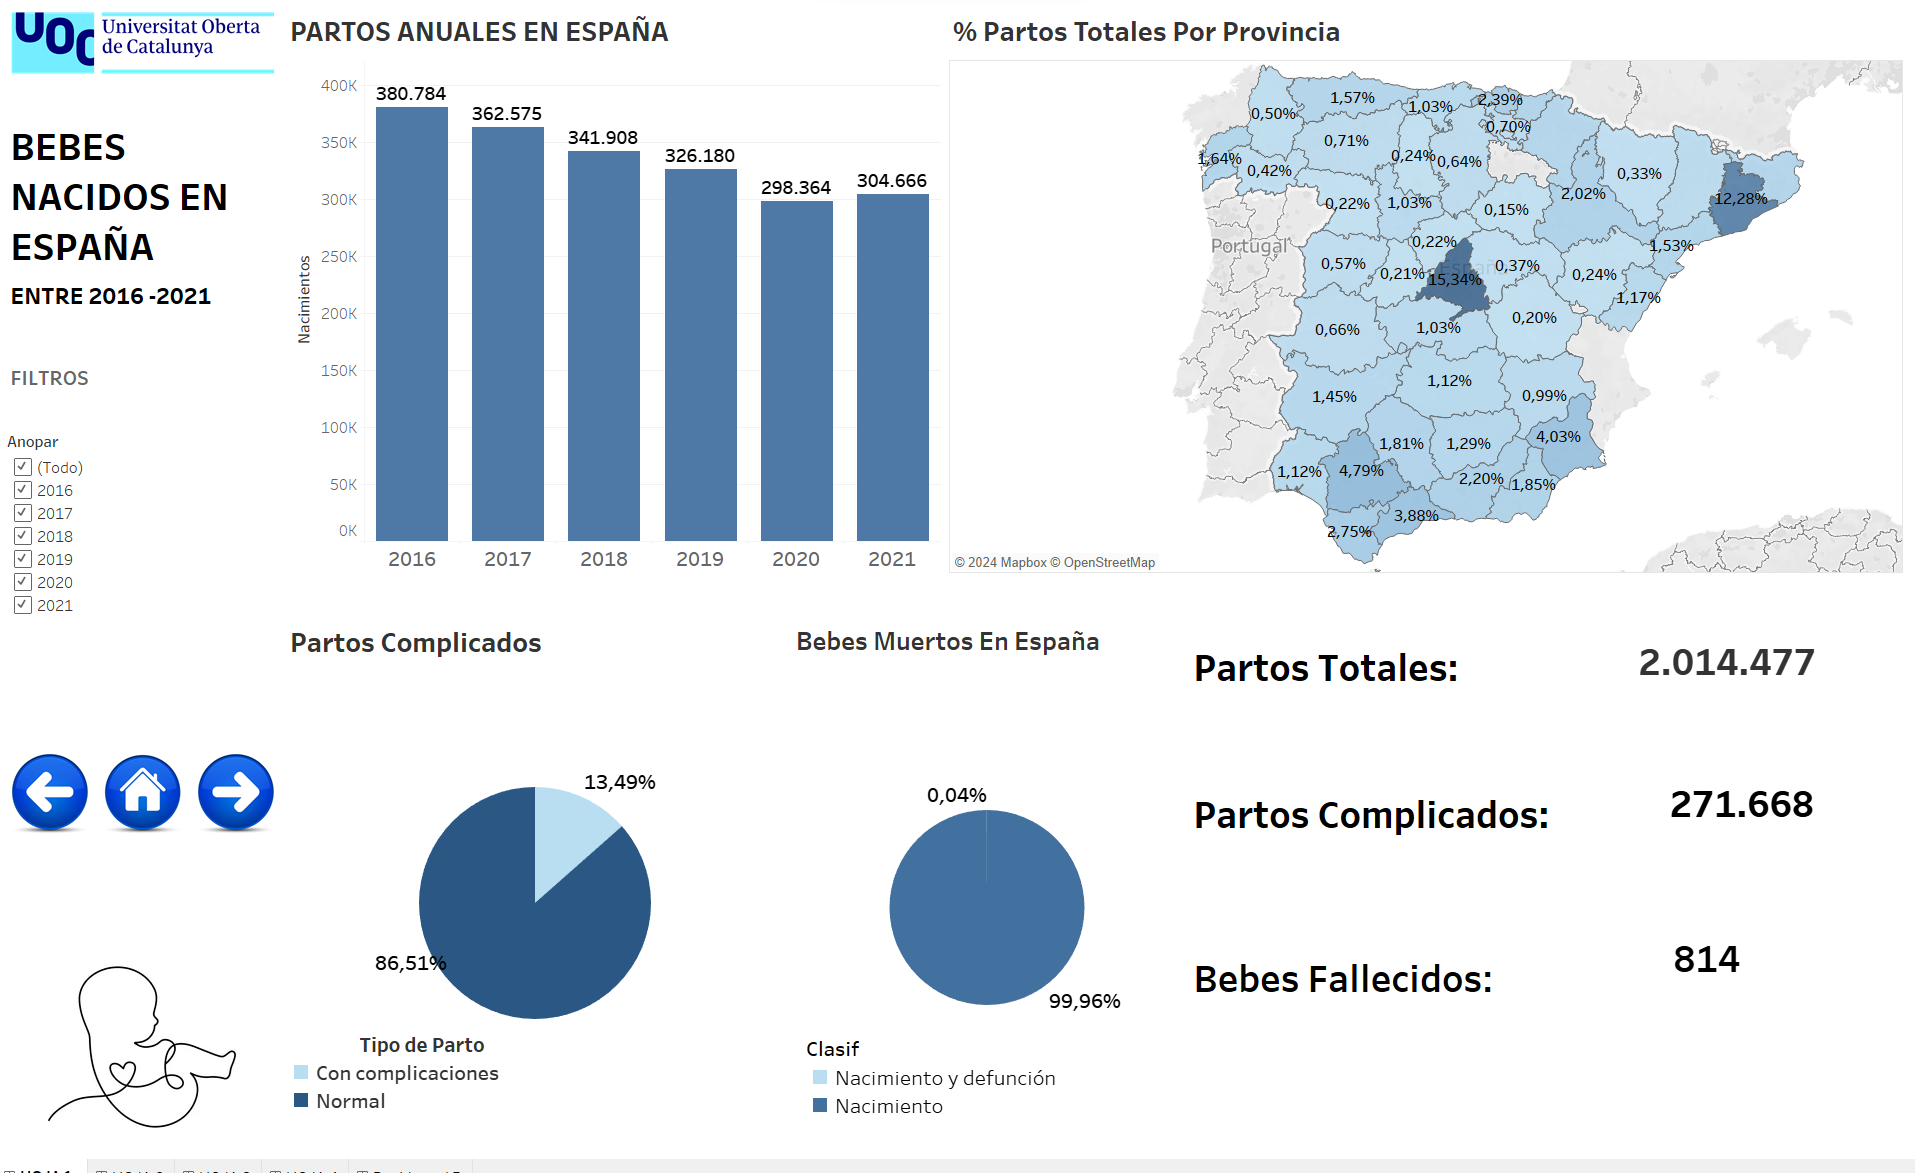

The page's visual inventory and layout, read from the dashboard file:
{"tool":"tableau","page":{"name":"HOJA 1","canvas":[1000,1000],"units":"permille","ordinal":0},"visuals":[{"type":"image","param":"C:/Users/miguel.agua/Documents/Personal/Semestre3/Visualizacion/PRA2/Imagenes/uo","box":[5.2,8.2,145.1,95.6]},{"type":"worksheet","title":"Partos por años","mark":"Bar","rows":["NORMA"],"cols":["ANOPAR"],"box":[150.3,8.2,344.7,491.7]},{"type":"worksheet","title":"Partos totales","mark":"Automatic","box":[495,8.2,499.8,491.7]},{"type":"text","box":[5.2,103.8,145.1,162.7]},{"type":"text","box":[5.2,266.6,145.1,42.2]},{"type":"blank","box":[5.2,308.8,145.1,45.3]},{"type":"text","box":[5.2,354.1,145.1,37.1]},{"type":"blank","box":[5.2,391.2,145.1,33]},{"type":"filter","title":"Partos con complicaciones %","param":"[federated.0aty76y0109al219r4ch6103iras].[none:ANOPAR:nk]","box":[5.2,424.2,145.1,242]},{"type":"blank","box":[150.3,499.9,844.5,32.2]},{"type":"worksheet","title":"Partos con complicaciones %","mark":"Pie","box":[150.3,532.1,263,459.7]},{"type":"worksheet","title":"bebes muertos","mark":"Pie","box":[413.3,532.1,206.6,459.7]},{"type":"text","box":[619.9,532.1,223.6,87.8]},{"type":"worksheet","title":"Conteo partos","mark":"Automatic","box":[843.5,532.1,151.3,87.8]},{"type":"blank","box":[619.9,619.9,374.9,34]},{"type":"text","box":[619.9,653.9,243.1,95.8]},{"type":"worksheet","title":"Hoja 19","mark":"Automatic","box":[863,653.9,131.8,95.8]},{"type":"dashboard-object","box":[5.2,666.3,48.9,77.2]},{"type":"dashboard-object","box":[54.1,666.3,48.2,77.2]},{"type":"dashboard-object","box":[102.4,666.3,48.2,77.2]},{"type":"image","param":"C:/Users/MIGUEL~1.AGU/AppData/Local/Temp/TableauTemp/0sq70k71esgcpo11s92yl0eh5kt","box":[5.2,743.4,145.1,248.3]},{"type":"blank","box":[619.9,749.7,374.9,37.1]},{"type":"text","box":[619.9,786.7,246.4,111.2]},{"type":"worksheet","title":"Hoja 20","mark":"Automatic","box":[866.3,786.7,128.5,111.2]},{"type":"legend","title":"Partos con complicaciones %","param":"[federated.0aty76y0109al219r4ch6103iras].[none:NORMA:nk]","box":[152.1,888.8,140.6,100.9]},{"type":"blank","box":[619.9,897.9,284.8,93.8]},{"type":"blank","box":[904.7,897.9,90.1,93.8]}]}

Visuals, with their boxes on the dashboard's canvas, which has no fixed pixel size, in thousandths of its width and height (x1, y1, x2, y2). These are canvas units, not pixel positions in the 1915x1173 screenshot, which may show the page scaled, cropped or inside an application window:
image: bbox(5, 8, 150, 104)
"Partos por años" worksheet (Bar marks): bbox(150, 8, 495, 500)
"Partos totales" worksheet: bbox(495, 8, 995, 500)
text: bbox(5, 104, 150, 266)
text: bbox(5, 267, 150, 309)
blank: bbox(5, 309, 150, 354)
text: bbox(5, 354, 150, 391)
blank: bbox(5, 391, 150, 424)
"Partos con complicaciones %" filter: bbox(5, 424, 150, 666)
blank: bbox(150, 500, 995, 532)
"Partos con complicaciones %" worksheet (Pie marks): bbox(150, 532, 413, 992)
"bebes muertos" worksheet (Pie marks): bbox(413, 532, 620, 992)
text: bbox(620, 532, 844, 620)
"Conteo partos" worksheet: bbox(844, 532, 995, 620)
blank: bbox(620, 620, 995, 654)
text: bbox(620, 654, 863, 750)
"Hoja 19" worksheet: bbox(863, 654, 995, 750)
dashboard-object: bbox(5, 666, 54, 744)
dashboard-object: bbox(54, 666, 102, 744)
dashboard-object: bbox(102, 666, 151, 744)
image: bbox(5, 743, 150, 992)
blank: bbox(620, 750, 995, 787)
text: bbox(620, 787, 866, 898)
"Hoja 20" worksheet: bbox(866, 787, 995, 898)
"Partos con complicaciones %" legend: bbox(152, 889, 293, 990)
blank: bbox(620, 898, 905, 992)
blank: bbox(905, 898, 995, 992)
